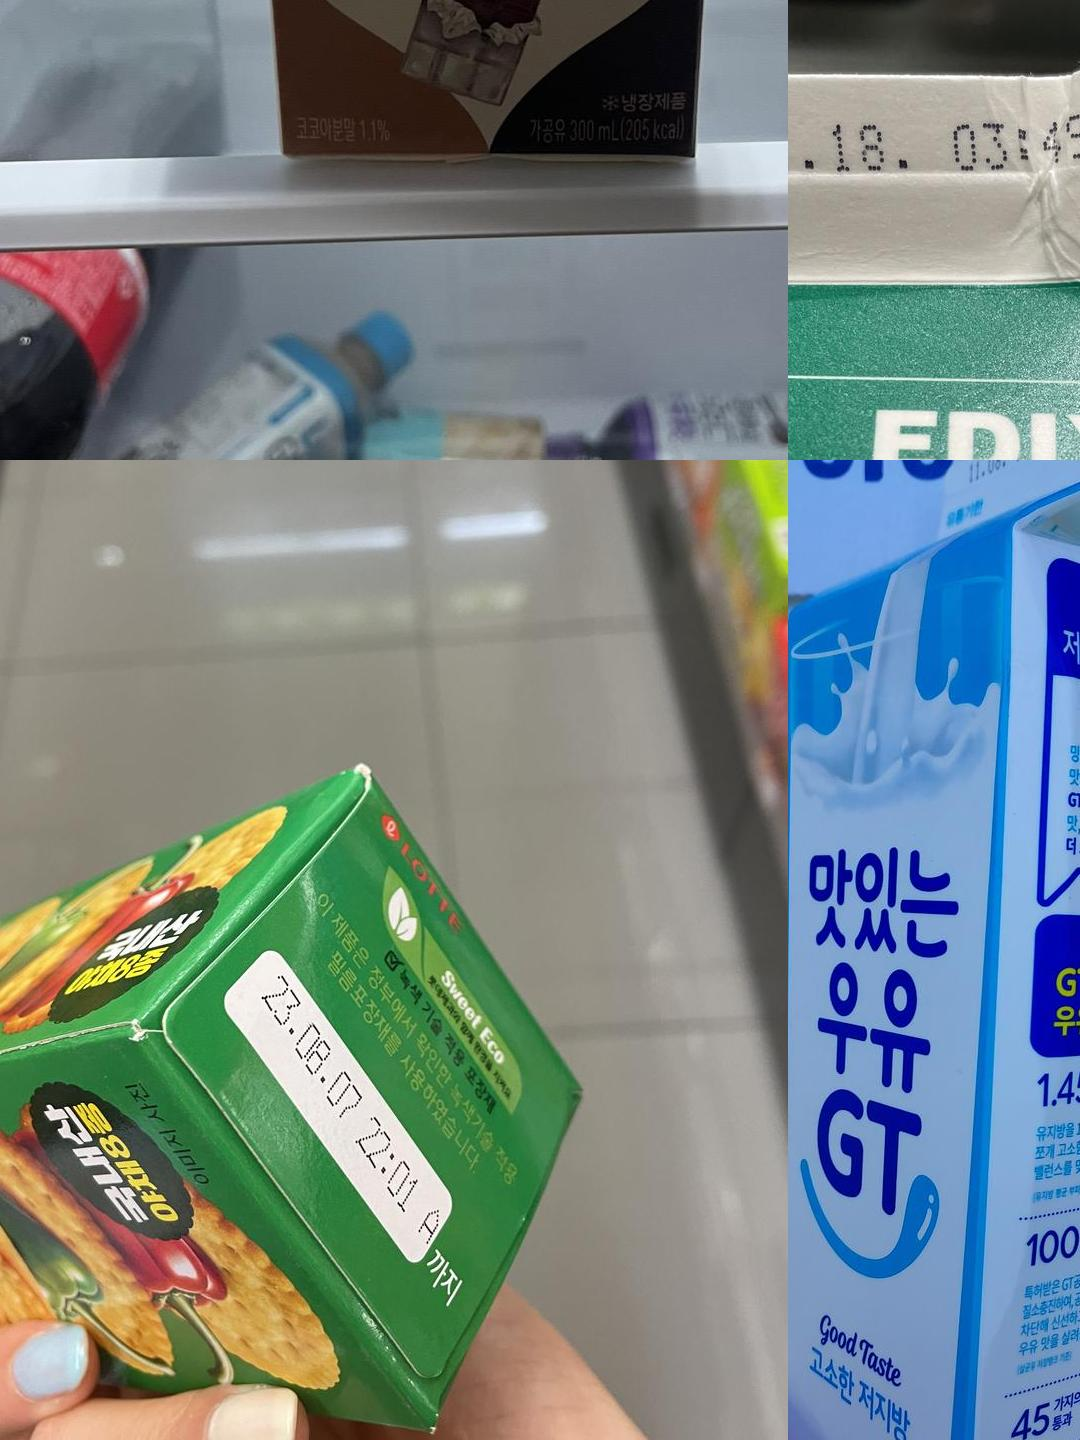milk: (788, 53, 1080, 269), (281, 0, 694, 55), (925, 460, 1080, 538)
snack food: (231, 945, 452, 1265)
